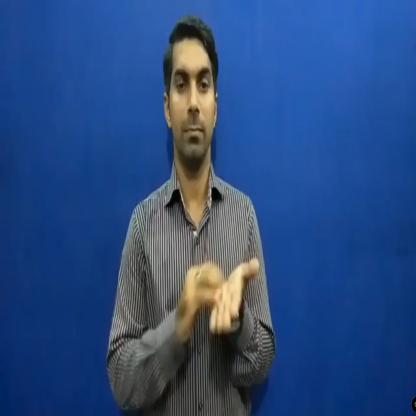ExcuseMe: (178, 231, 260, 342)
